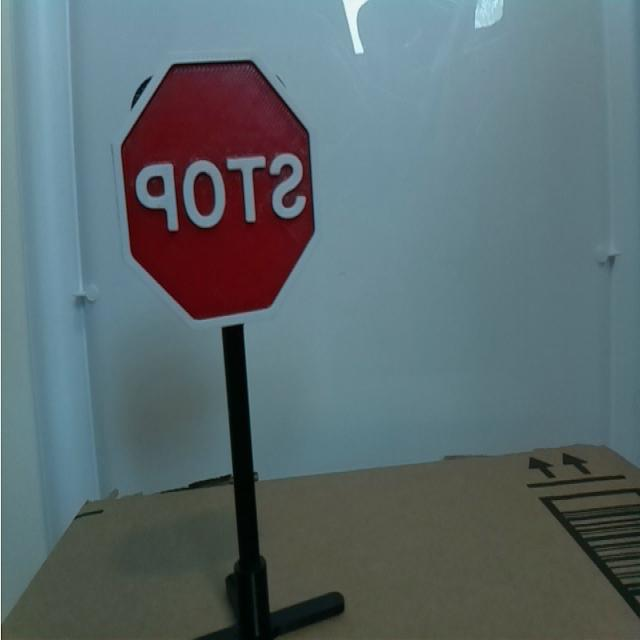sign_stop: (108, 48, 334, 328)
